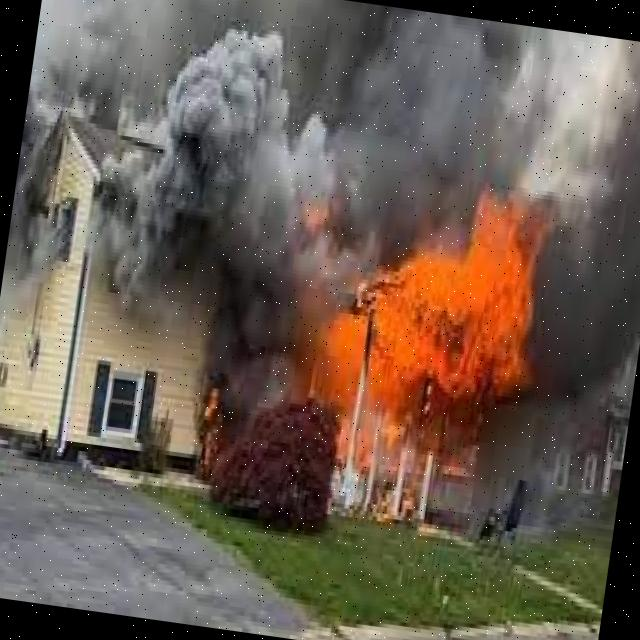fire: (282, 164, 576, 466)
